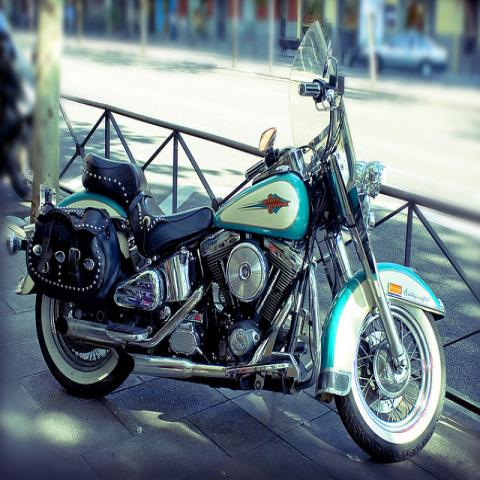car: (352, 29, 450, 79)
motorcycle: (1, 14, 450, 469)
